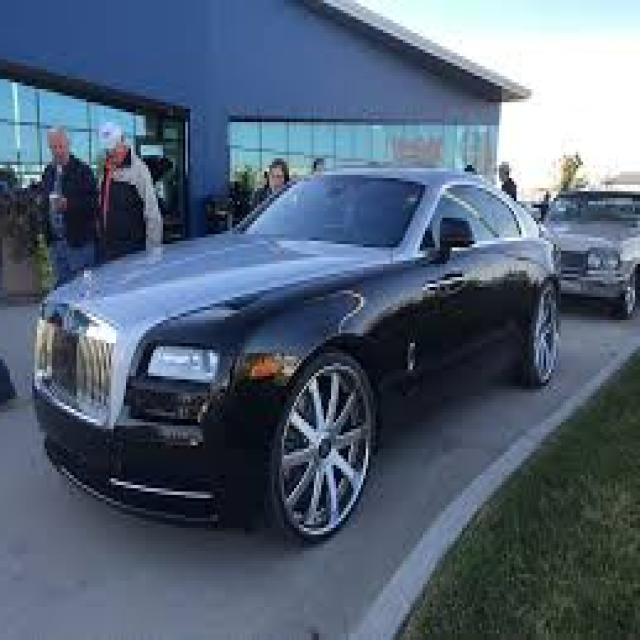car: (22, 161, 571, 550)
